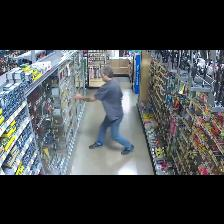person: (73, 66, 134, 154)
